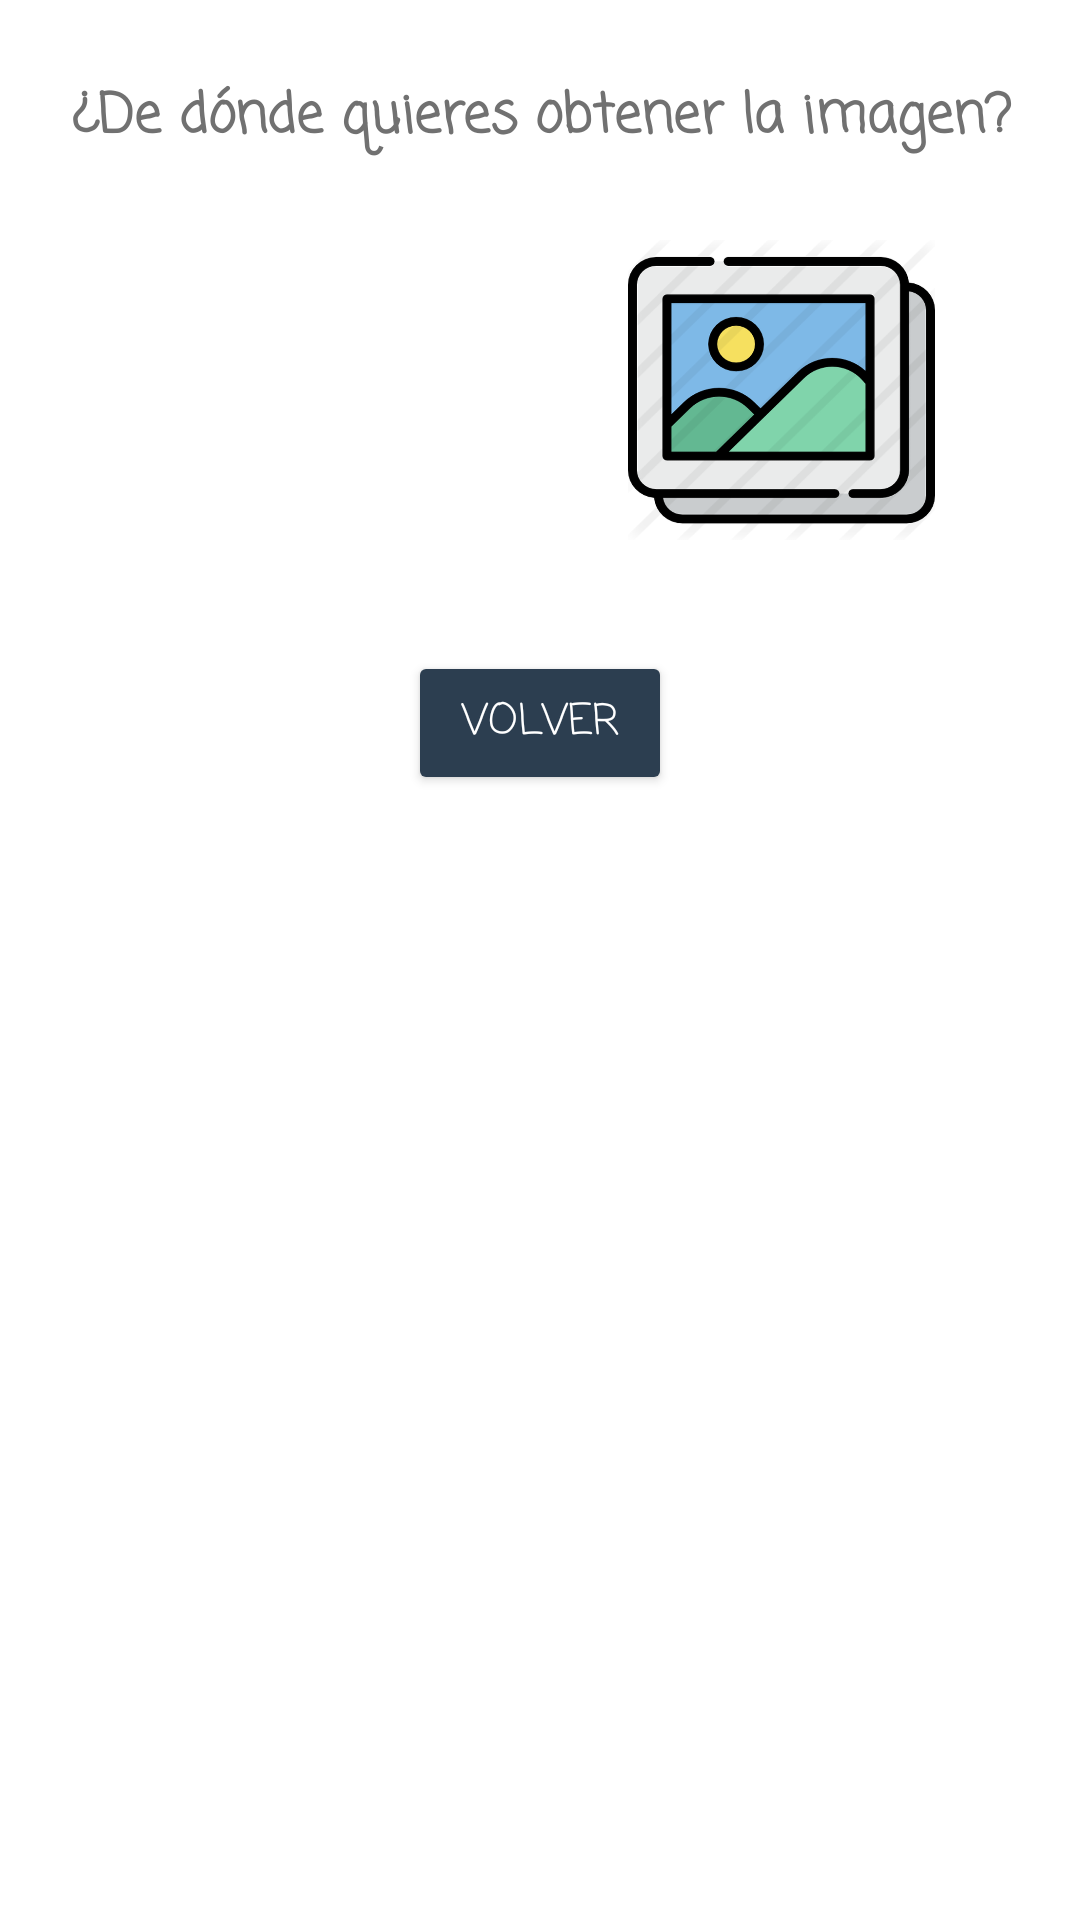

Icons on this 1080w x 1920h Android screen, each with its box as (x1, y1, x2, y2):
galeria: (628, 257, 935, 524)
